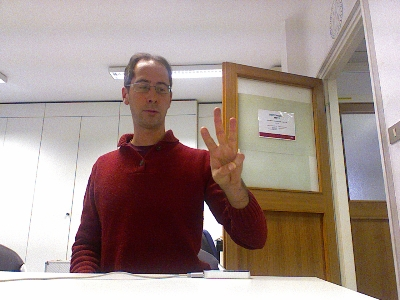三分: (199, 105, 245, 187)
